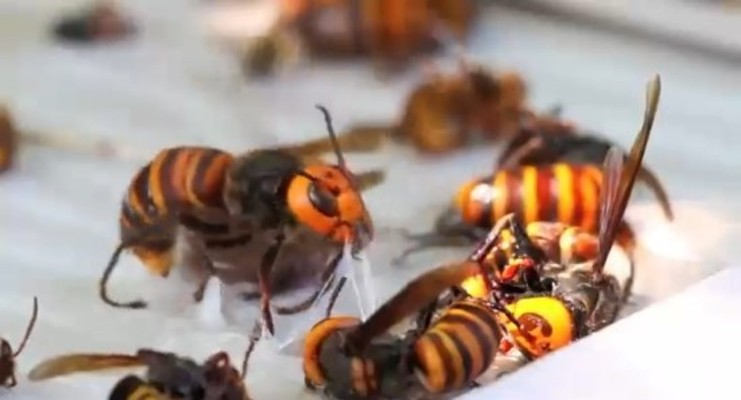asian_giant_hornet: (88, 92, 388, 317), (278, 274, 503, 400), (435, 127, 661, 252), (462, 229, 656, 353), (392, 51, 563, 152), (27, 333, 267, 400), (279, 1, 470, 68), (1, 292, 41, 388)
